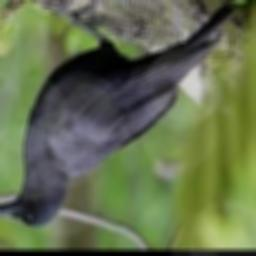Crow: (0, 1, 235, 227)
